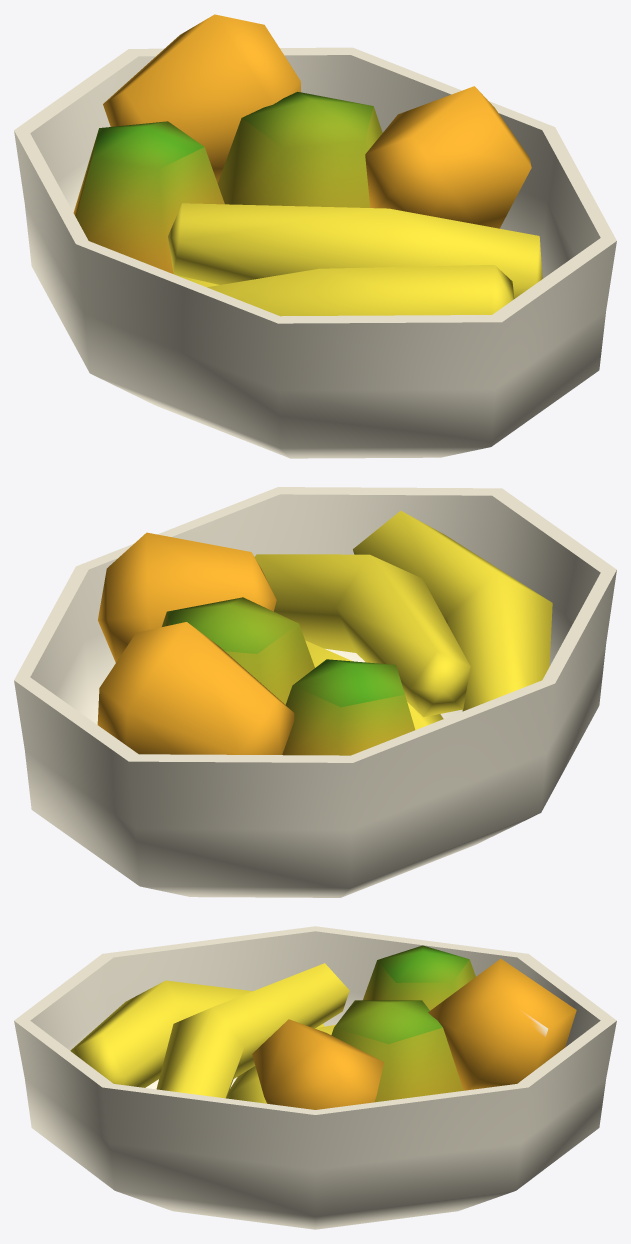
The model's file is fruit-bowl---household-props-challenge-14cc6e.glb.
3 views of the same model, one above another, from view 1: azimuth 30°, elevation 25°; view 2: azimuth 150°, elevation 25°; view 3: azimuth 270°, elevation 25° (orthographic). The views are drawn at different scales.
Parts seen in each view (by area): view 1: PropMesh; view 2: PropMesh; view 3: PropMesh.
Part boxes in pixels (box(x1,y1,x2,y2)): PropMesh: box(14, 14, 616, 458); PropMesh: box(14, 487, 616, 897); PropMesh: box(14, 926, 616, 1229).
Size of the model in its own units: 0.4494 by 0.2369 by 0.6063.
Materials: 1 (1 with a texture image).
